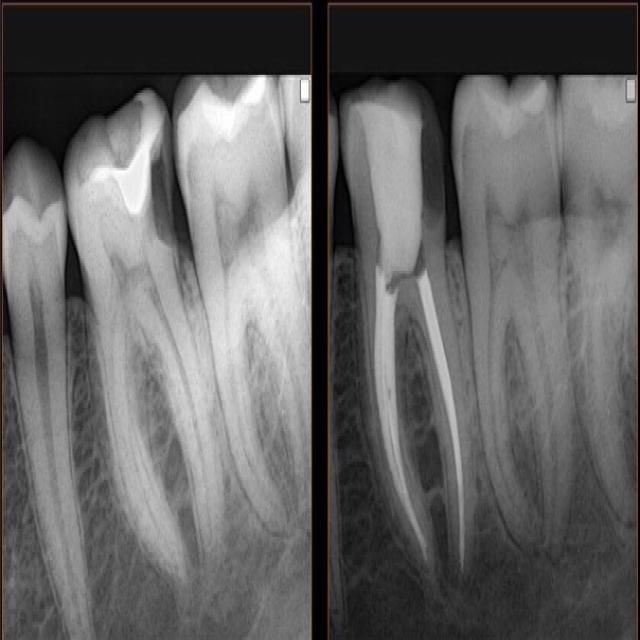Caries: (60, 88, 203, 627), (338, 79, 456, 626)
